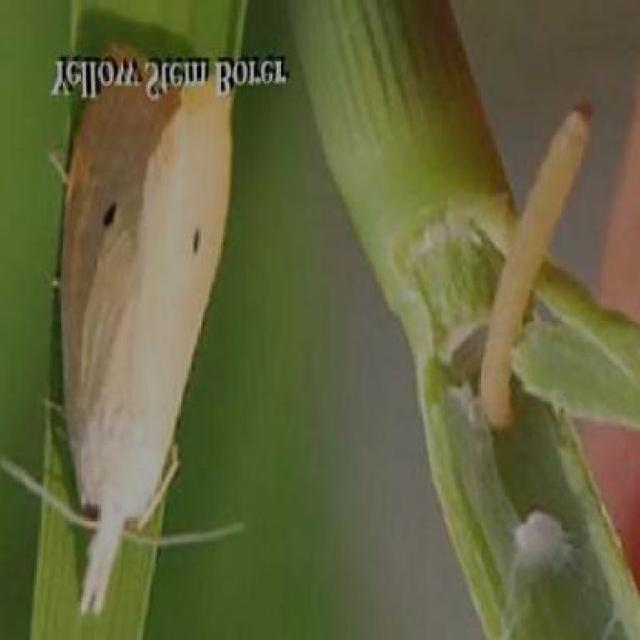stem-borer: (28, 112, 238, 620)
